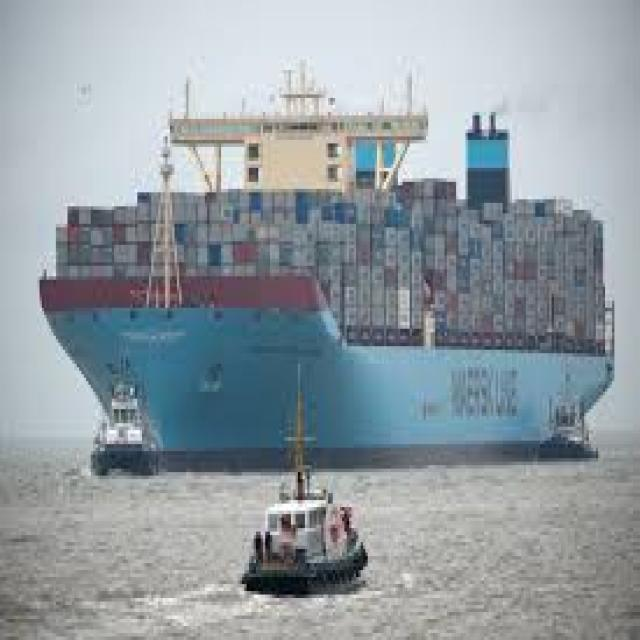cargoship: (48, 71, 617, 442)
houseboat: (245, 358, 368, 592), (86, 353, 161, 467), (540, 356, 599, 457)
